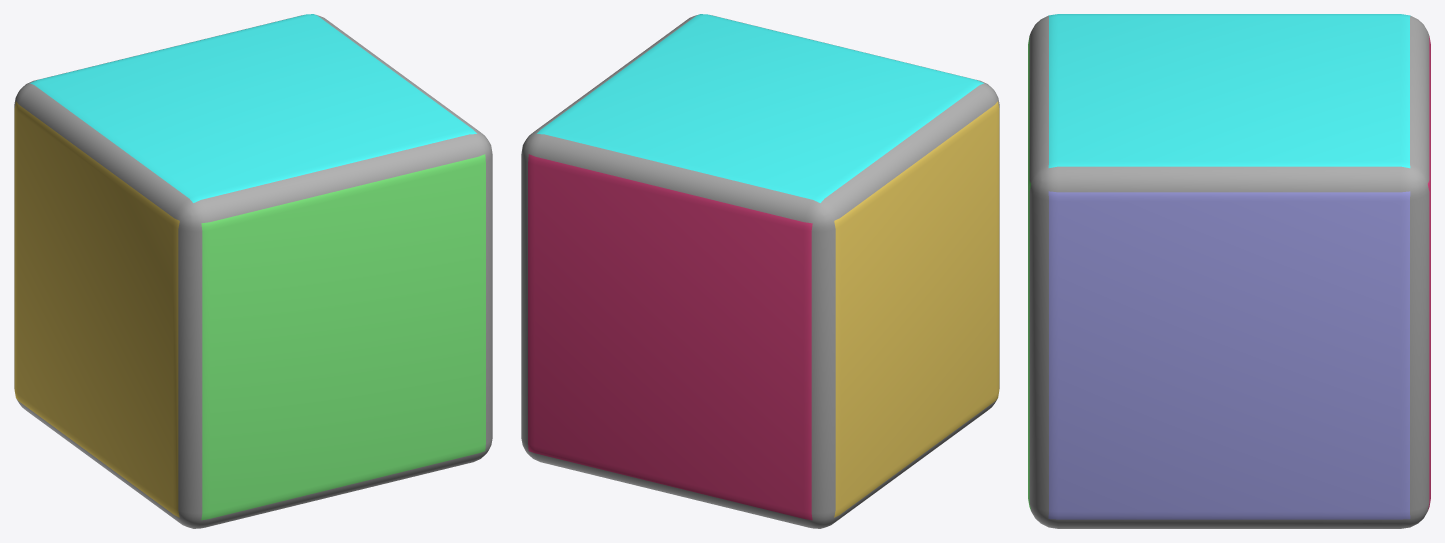
File: Cell_fbx.fbx
3 views of the same model, side by side, from view 1: azimuth 30°, elevation 25°; view 2: azimuth 150°, elevation 25°; view 3: azimuth 270°, elevation 25° (orthographic). The views are drawn at different scales.
Parts seen in each view (by area): view 1: Cube; view 2: Cube; view 3: Cube.
Part boxes in pixels (x1,y1,x2,y2): Cube: (14, 14, 492, 528); Cube: (521, 14, 999, 528); Cube: (1028, 14, 1430, 528).
Size of the model in its own units: 200 by 200 by 200.
